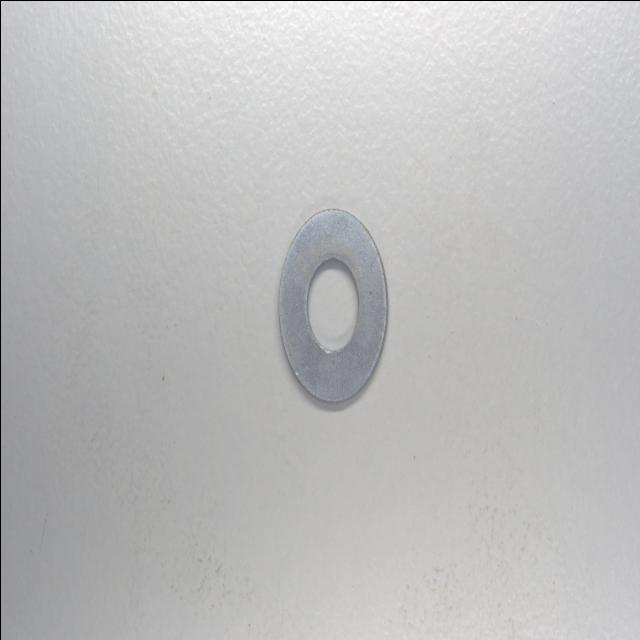washer: (274, 205, 388, 402)
